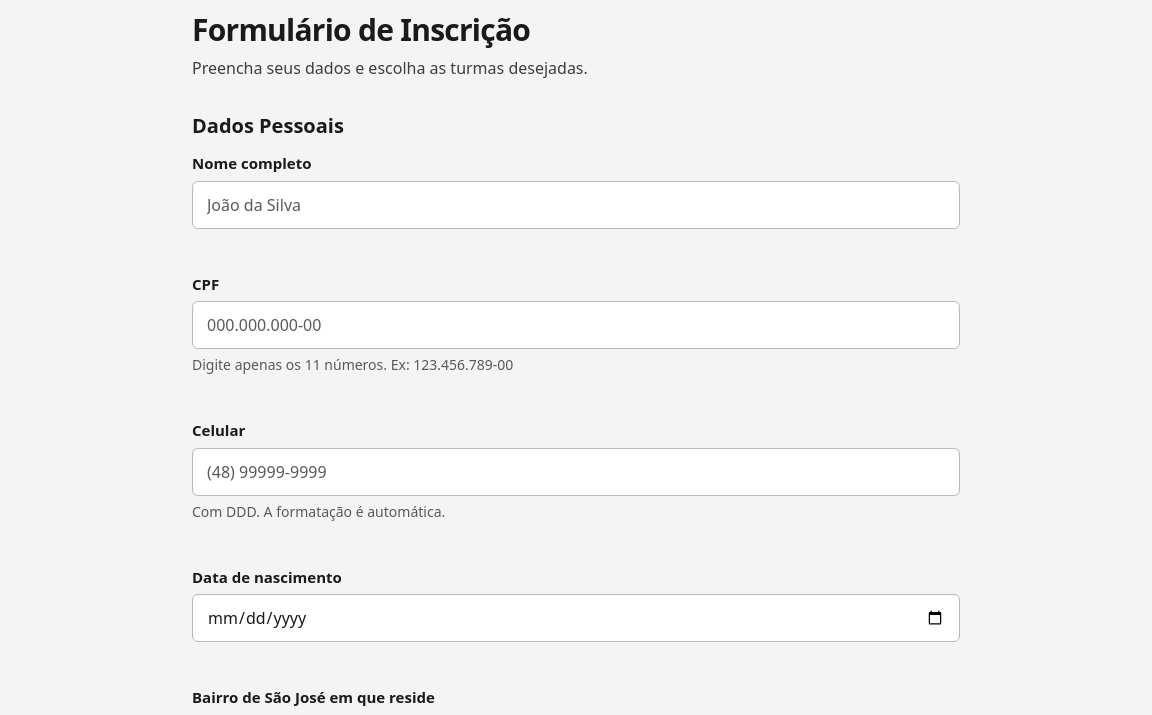
it: RegisterPage — campo de celular › formata o celular com máscara (48) 99999-9999 durante a digitação
Type "48999999999" into the field labelled "Celular" at (576, 472), box [192,448,960,496]
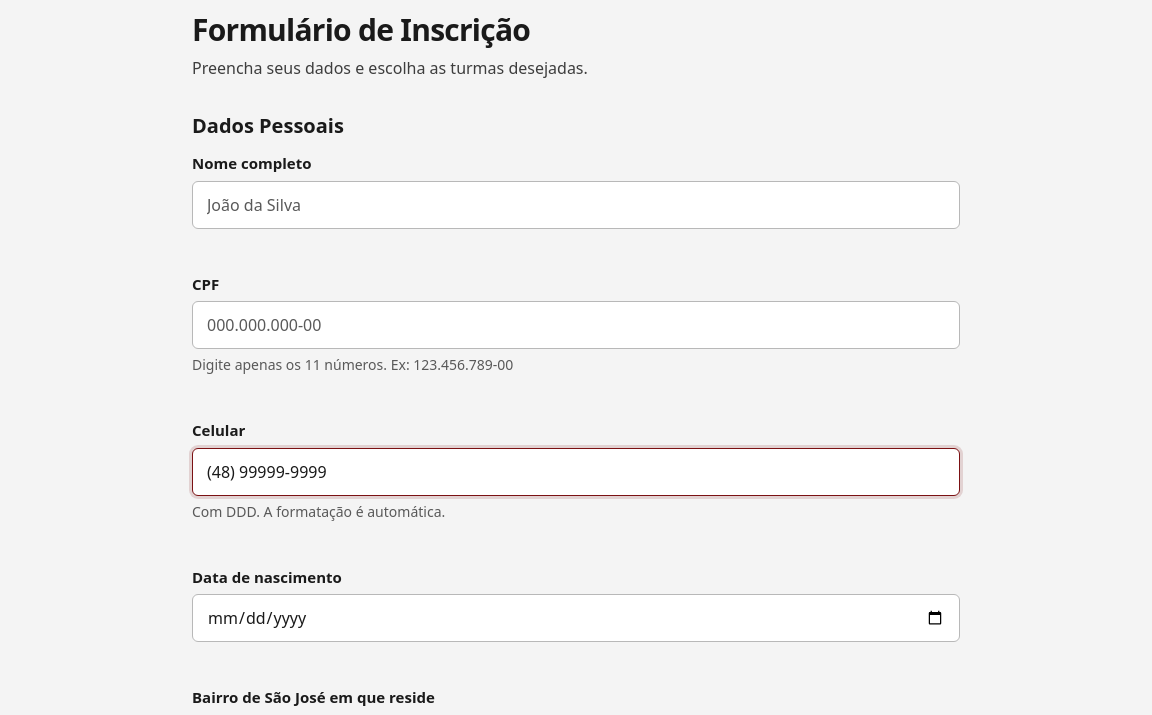
Expected: the field labelled "Celular" holds "(48) 99999-9999", [192,448,960,496]
